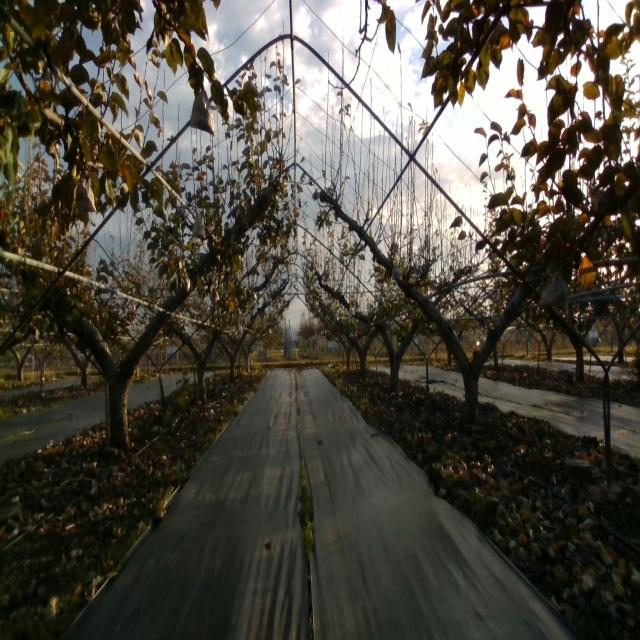pearbags: (540, 270, 568, 320), (190, 89, 214, 137), (70, 177, 96, 216), (192, 214, 206, 239), (392, 261, 403, 281)
